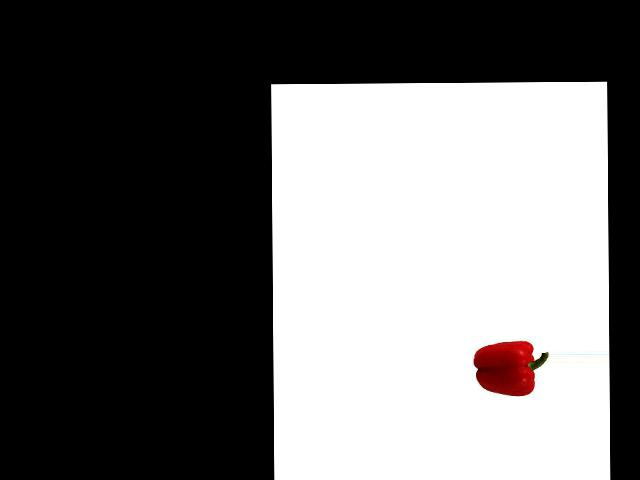bell_pepper: (472, 338, 548, 404)
